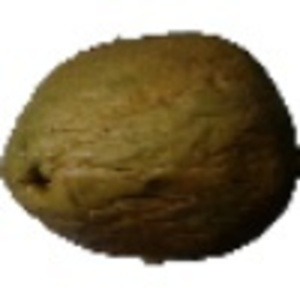mamão: (2, 17, 298, 280)
